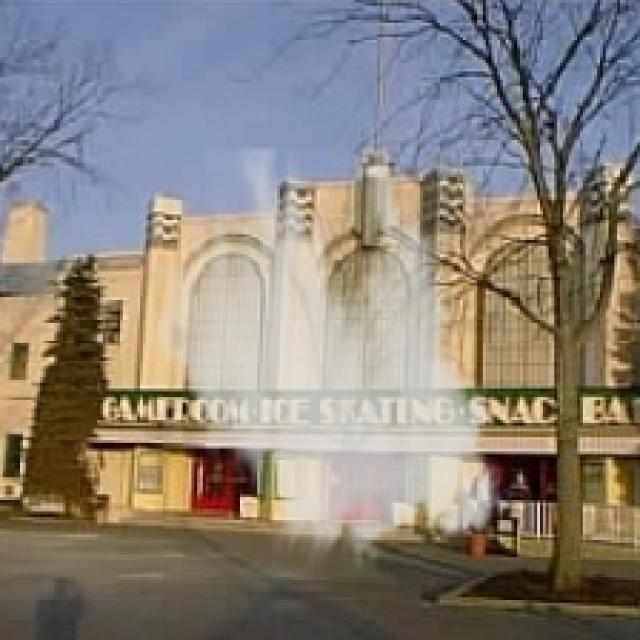Smoke: (142, 146, 518, 572)
